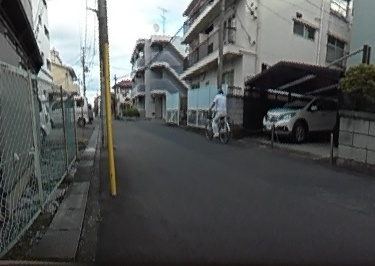person: (208, 89, 227, 138)
